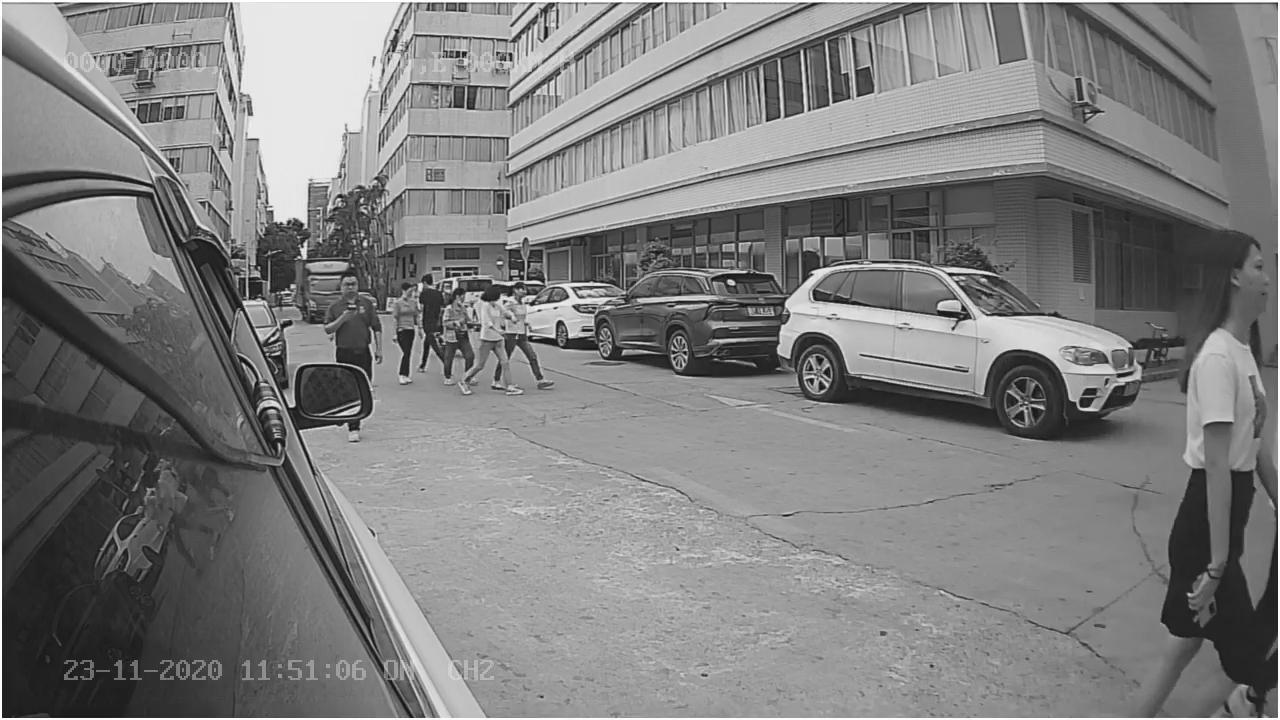person: (314, 262, 383, 357)
